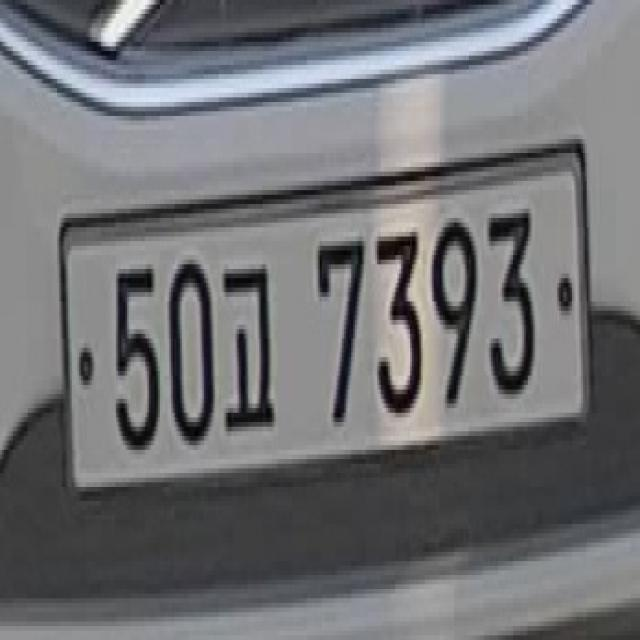0: (164, 253, 216, 452)
3: (486, 184, 536, 416), (376, 220, 421, 428)
5: (112, 249, 164, 454)
7: (314, 219, 366, 440)
9: (429, 209, 482, 420)
go: (220, 247, 286, 444)
license_plate: (61, 128, 588, 494)
